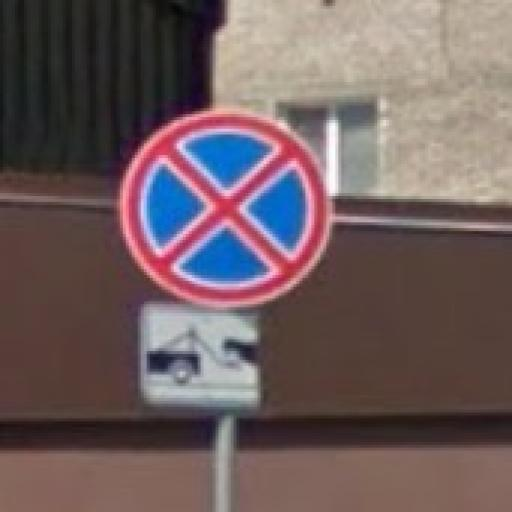traffic_sign: (118, 109, 333, 308)
